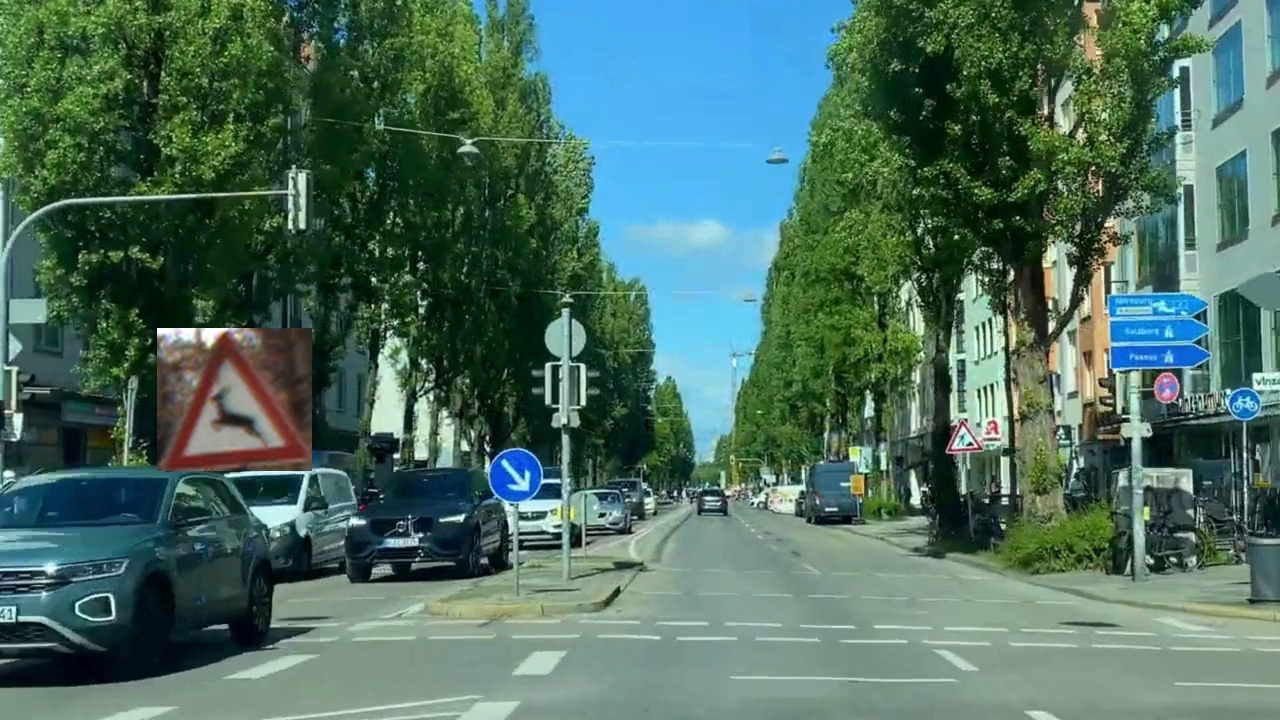Wild animals: (157, 328, 312, 471)
